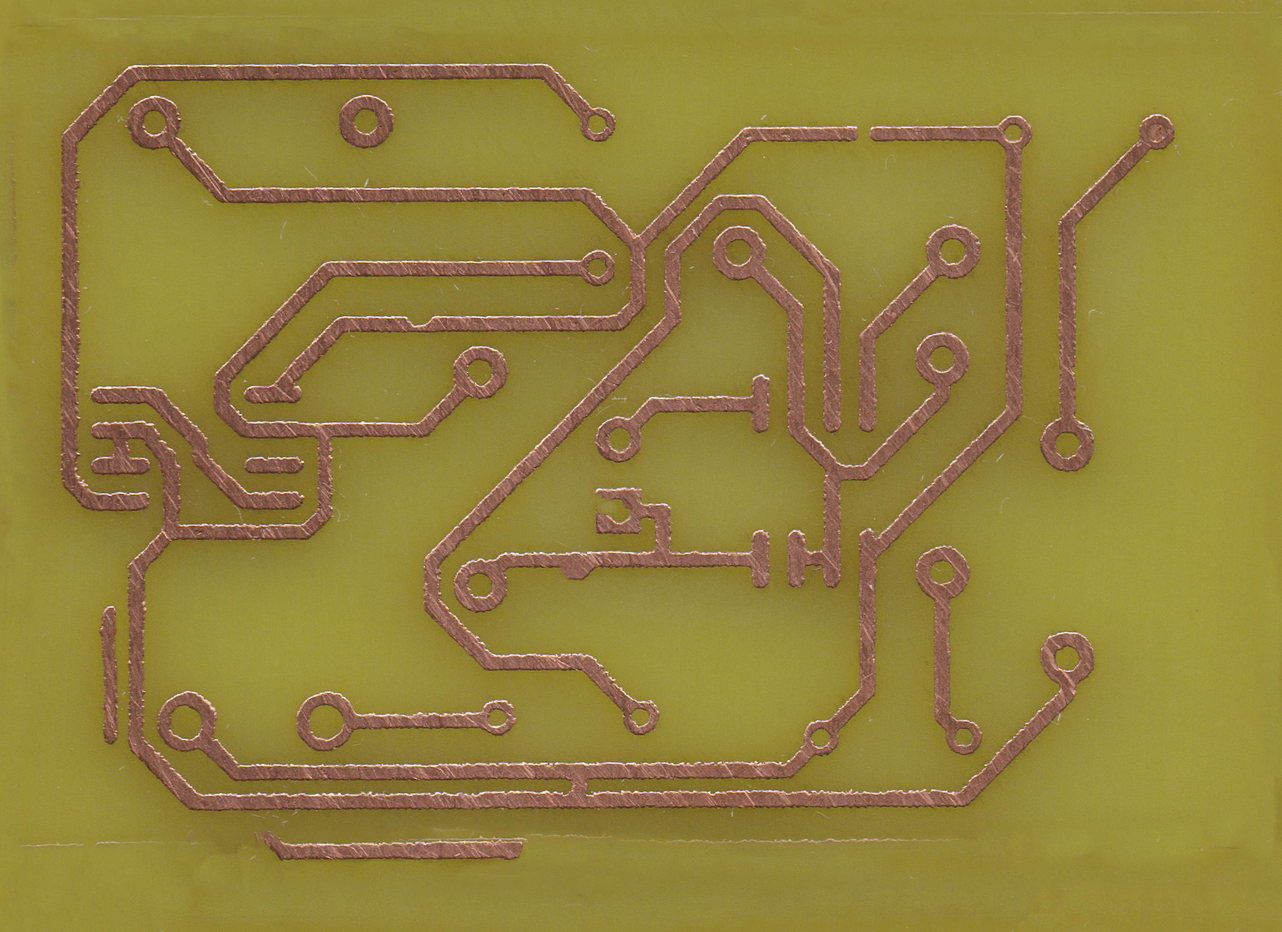missing_hole: (592, 489, 648, 535)
mouse_bite: (393, 314, 441, 338)
open_circuit: (839, 127, 890, 143)
short: (561, 764, 598, 804)
spur: (554, 552, 598, 586)
spurious_copper: (275, 837, 525, 870), (98, 609, 122, 754)
